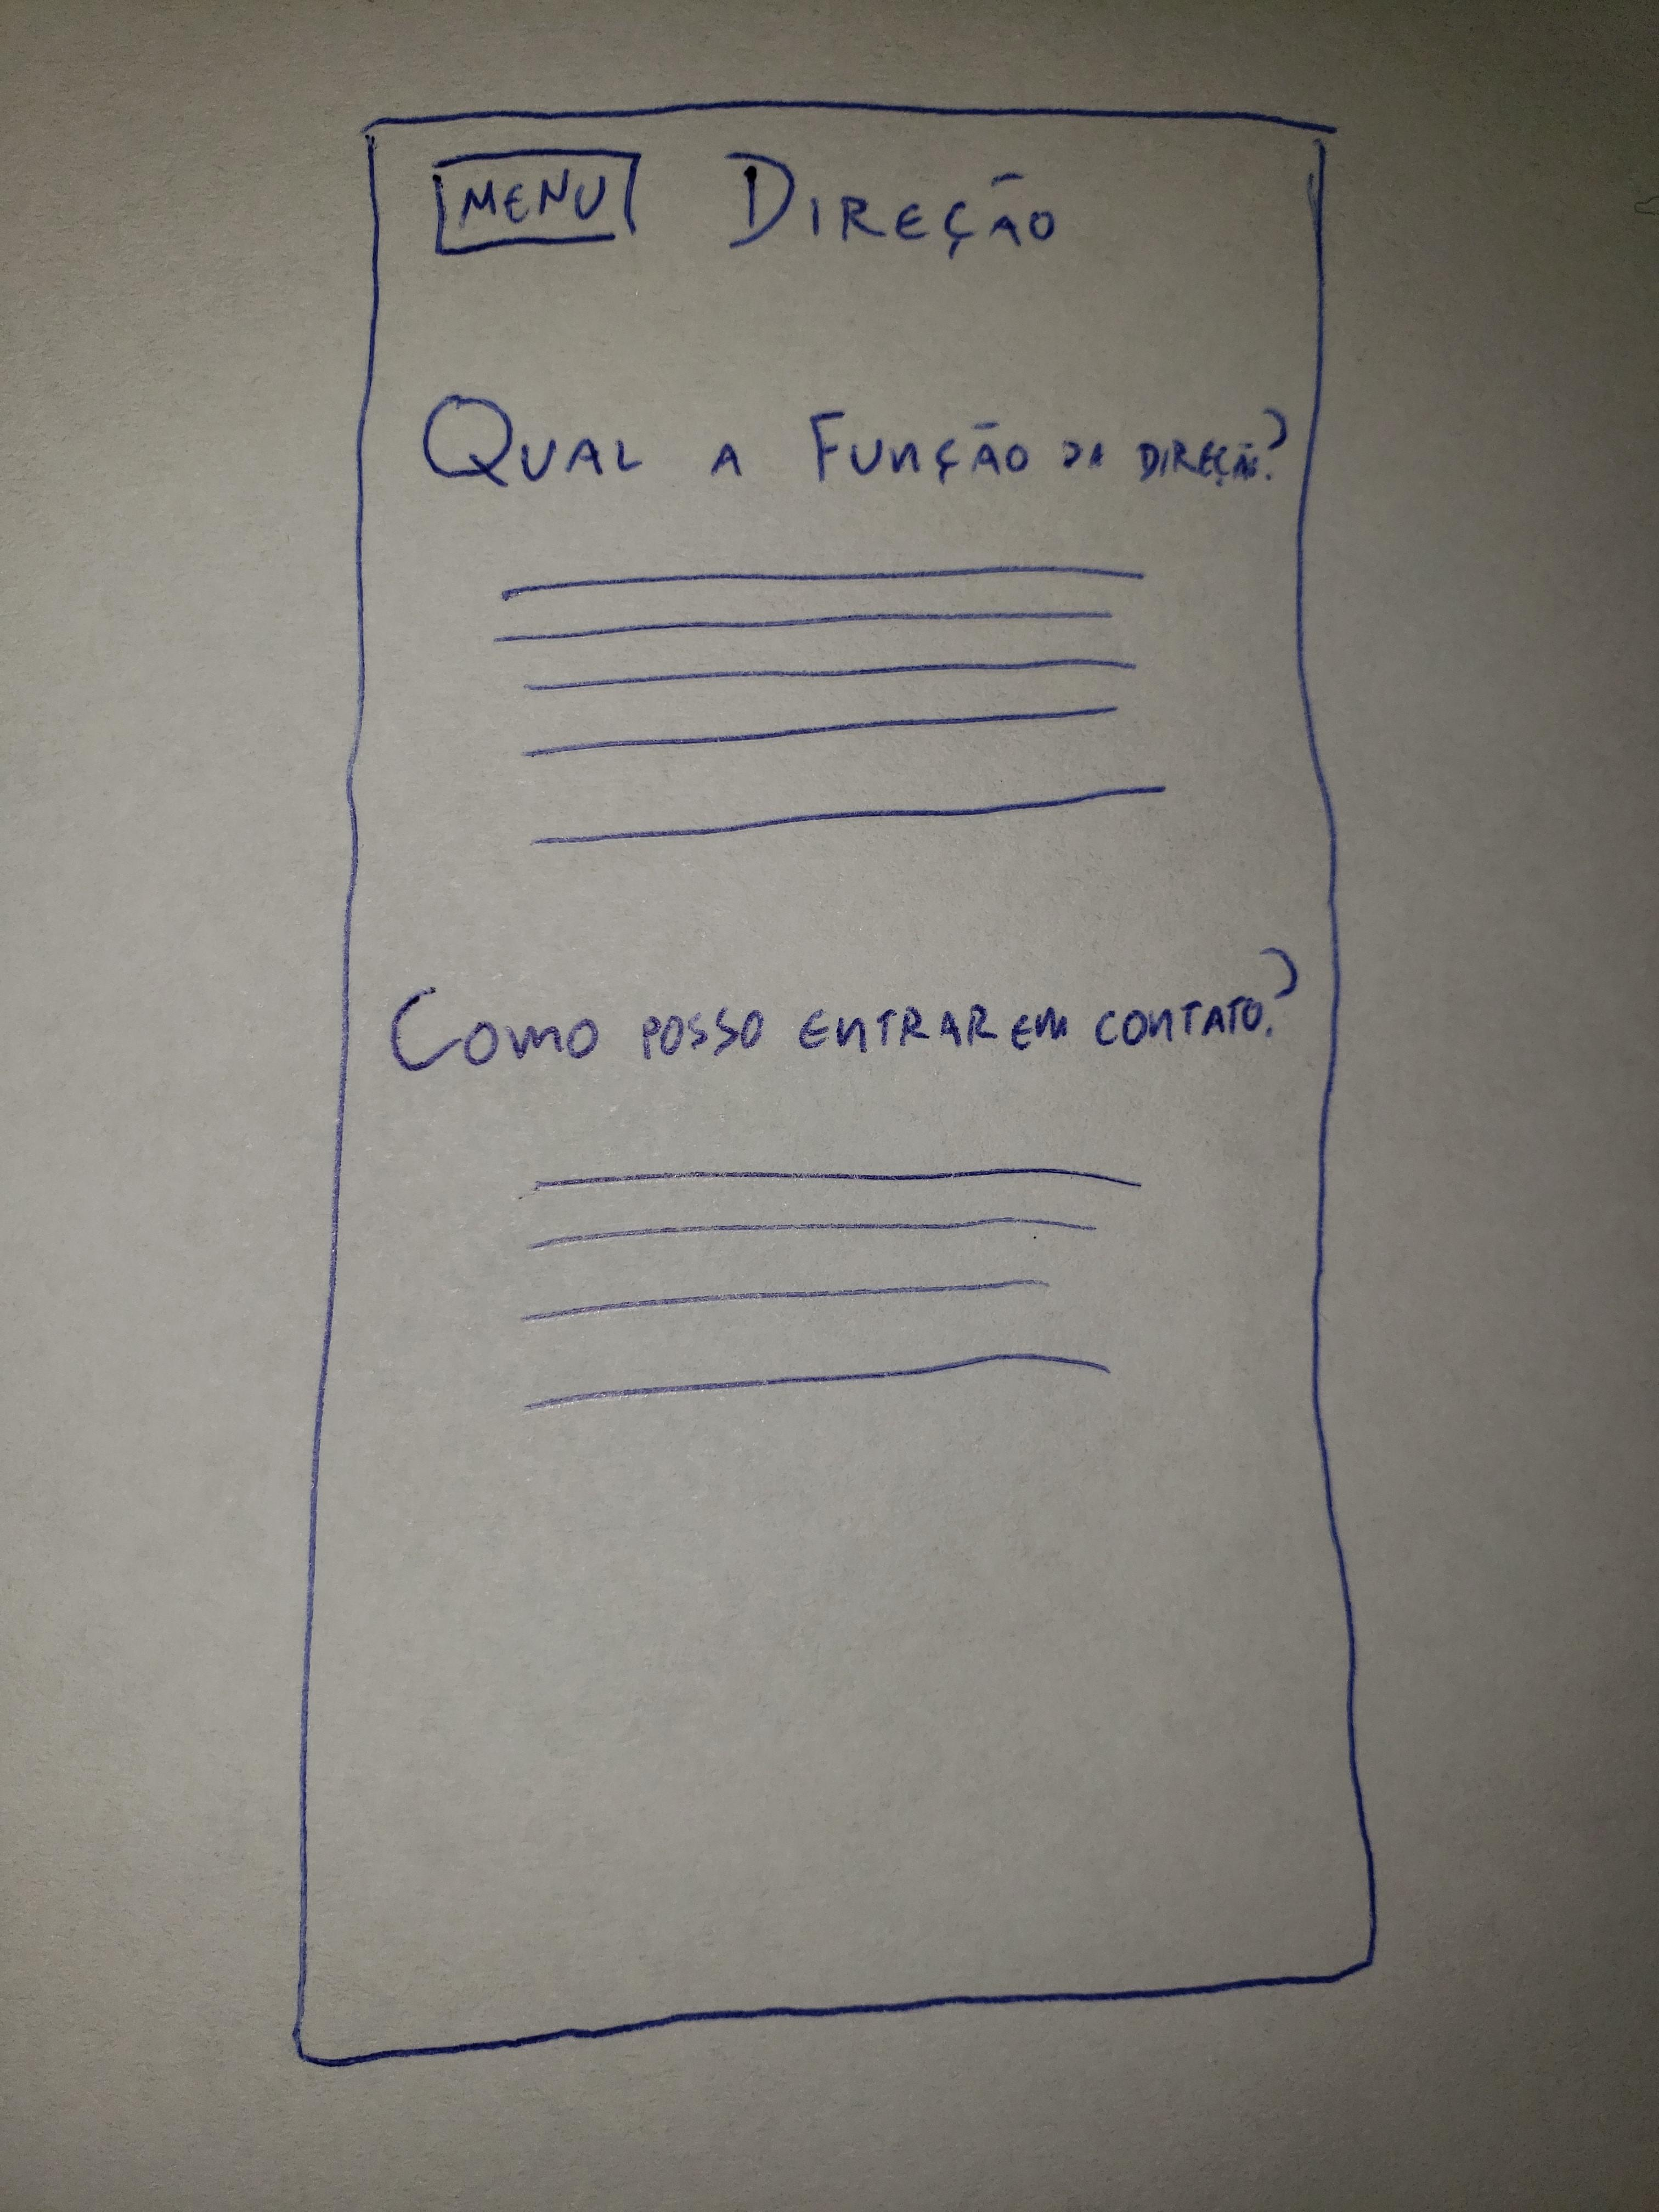Button: (430, 145, 640, 254)
Label: (490, 566, 1164, 855), (523, 1165, 1148, 1413), (389, 946, 1297, 1073), (422, 395, 1291, 488), (725, 150, 1060, 258)
Screen: (289, 105, 1377, 2076)
